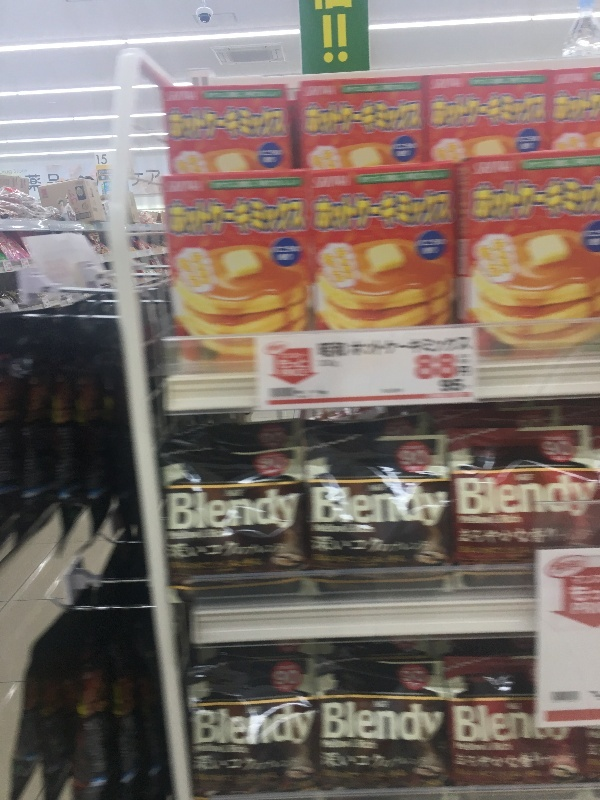text: (322, 14, 336, 64), (481, 176, 496, 222), (497, 176, 512, 222), (513, 176, 528, 222), (529, 176, 544, 222), (545, 176, 560, 222), (561, 176, 576, 222), (577, 176, 592, 222), (321, 189, 336, 232), (337, 189, 352, 232), (353, 189, 368, 232), (369, 189, 384, 232), (385, 189, 400, 232), (401, 189, 416, 232), (417, 189, 432, 232), (433, 189, 448, 232), (465, 475, 480, 518), (481, 475, 496, 518), (497, 475, 512, 518), (513, 475, 528, 518), (529, 475, 544, 518), (545, 475, 560, 518), (561, 475, 576, 518), (577, 475, 592, 518), (177, 489, 192, 531), (193, 489, 208, 531), (209, 489, 224, 531), (225, 489, 240, 531), (241, 489, 256, 531), (257, 489, 272, 531), (273, 489, 288, 531), (321, 703, 336, 744), (337, 703, 352, 744), (353, 703, 368, 744), (369, 703, 384, 744), (385, 703, 400, 744), (401, 703, 416, 744), (417, 703, 432, 744), (433, 703, 448, 744), (577, 575, 592, 616), (209, 706, 224, 746), (225, 706, 240, 746), (241, 706, 256, 746), (257, 706, 272, 746), (273, 706, 288, 746), (289, 706, 304, 746), (321, 487, 336, 526), (337, 487, 352, 526), (353, 487, 368, 526), (369, 487, 384, 526), (385, 487, 400, 526), (401, 487, 416, 526), (417, 487, 432, 526), (433, 487, 448, 526), (177, 198, 192, 236), (193, 198, 208, 236), (209, 198, 224, 236), (225, 198, 240, 236), (241, 198, 256, 236), (257, 198, 272, 236), (273, 198, 288, 236), (289, 198, 304, 236), (305, 99, 320, 137), (321, 99, 336, 137), (337, 99, 352, 137), (353, 99, 368, 137), (369, 99, 384, 137), (385, 99, 400, 137), (401, 99, 416, 137), (194, 706, 208, 746), (305, 706, 319, 746), (337, 14, 348, 64), (433, 92, 448, 128), (449, 92, 464, 128), (465, 92, 480, 128), (481, 92, 496, 128), (497, 92, 512, 128), (513, 92, 528, 128), (529, 92, 544, 128), (465, 705, 480, 741), (481, 705, 496, 741), (497, 705, 512, 741), (513, 705, 528, 741), (177, 107, 192, 142), (193, 107, 208, 142), (209, 107, 224, 142), (225, 107, 240, 142), (241, 107, 256, 142), (257, 107, 272, 142), (561, 90, 576, 124), (577, 90, 592, 124), (289, 489, 301, 531), (273, 107, 287, 142), (451, 705, 464, 741), (417, 352, 432, 381), (433, 352, 448, 381), (449, 352, 464, 381), (454, 475, 464, 518), (310, 487, 320, 526), (321, 337, 336, 360), (337, 337, 352, 360), (353, 337, 368, 360), (369, 337, 384, 360), (385, 337, 400, 360), (401, 337, 416, 360), (417, 337, 432, 360), (433, 337, 448, 360), (449, 337, 464, 360), (167, 198, 176, 236), (168, 489, 176, 531), (289, 354, 304, 376), (473, 176, 480, 222), (593, 176, 600, 222), (167, 107, 176, 142), (569, 575, 576, 616), (593, 575, 600, 616), (33, 174, 48, 193), (273, 755, 289, 772), (177, 542, 192, 560), (193, 542, 208, 560), (209, 542, 224, 560), (225, 542, 240, 560), (241, 542, 256, 560), (257, 542, 272, 560), (273, 542, 288, 560), (321, 750, 336, 768), (337, 750, 352, 768), (353, 750, 368, 768), (369, 750, 384, 768), (385, 750, 400, 768), (401, 750, 416, 768), (314, 189, 320, 232), (593, 475, 599, 518), (193, 755, 208, 772), (209, 755, 224, 772), (225, 755, 240, 772), (241, 755, 256, 772), (257, 755, 272, 772), (529, 705, 536, 741), (145, 170, 160, 186), (369, 169, 384, 185), (385, 169, 400, 185), (401, 169, 416, 185), (417, 169, 432, 185), (433, 169, 448, 185), (529, 155, 544, 171), (545, 155, 560, 171), (561, 155, 576, 171), (577, 155, 592, 171), (321, 535, 336, 551), (337, 535, 352, 551), (353, 535, 368, 551), (369, 535, 384, 551), (385, 535, 400, 551), (401, 535, 416, 551), (465, 753, 480, 769), (481, 753, 496, 769), (497, 753, 512, 769), (513, 753, 528, 769), (529, 753, 544, 769), (553, 90, 560, 124), (593, 90, 600, 124), (465, 352, 473, 381), (417, 99, 423, 137), (481, 161, 496, 176), (497, 161, 512, 176), (465, 529, 480, 544), (481, 529, 496, 544), (497, 529, 512, 544), (513, 529, 528, 544), (529, 529, 544, 544), (545, 529, 560, 544), (417, 535, 431, 551), (278, 354, 288, 376), (49, 174, 60, 193), (465, 337, 474, 360), (225, 178, 240, 191), (241, 178, 256, 191), (257, 178, 272, 191), (273, 178, 288, 191), (321, 176, 336, 189), (449, 379, 464, 392), (132, 170, 144, 186), (356, 169, 368, 185), (210, 178, 224, 191), (337, 176, 351, 189), (177, 181, 192, 193), (305, 86, 320, 98), (321, 86, 336, 98), (433, 78, 448, 90), (449, 78, 464, 90), (561, 73, 576, 85), (353, 83, 368, 94), (369, 83, 384, 94), (385, 83, 400, 94), (401, 83, 416, 94), (167, 542, 176, 560), (454, 753, 464, 769), (289, 178, 301, 191), (177, 92, 192, 102), (209, 90, 224, 100), (225, 90, 240, 100), (241, 90, 256, 100), (257, 90, 272, 100), (481, 76, 496, 86), (497, 76, 512, 86), (513, 76, 528, 86), (529, 76, 544, 86), (177, 530, 192, 540), (193, 530, 208, 540), (209, 530, 224, 540), (545, 753, 554, 769), (75, 187, 80, 215), (321, 741, 336, 750), (337, 741, 352, 750), (353, 741, 368, 750), (193, 181, 204, 193), (577, 73, 588, 85), (438, 379, 448, 392), (449, 189, 452, 232), (312, 535, 320, 551), (497, 743, 513, 751), (166, 181, 176, 193), (321, 524, 336, 532), (337, 524, 352, 532), (353, 524, 368, 532), (465, 516, 480, 524), (481, 516, 496, 524), (497, 516, 512, 524), (465, 743, 480, 751), (481, 743, 496, 751), (26, 174, 32, 193), (521, 155, 528, 171), (593, 155, 600, 171), (97, 155, 108, 165), (342, 83, 352, 94), (305, 354, 310, 376), (417, 750, 423, 768), (401, 143, 416, 150), (417, 240, 432, 247), (473, 161, 480, 176), (209, 746, 224, 753), (225, 746, 240, 753), (312, 176, 320, 189), (470, 76, 480, 86), (433, 240, 447, 247), (194, 746, 208, 753), (167, 92, 176, 102), (458, 529, 464, 544), (513, 516, 524, 524), (274, 247, 288, 253), (369, 741, 378, 750), (168, 530, 176, 540), (454, 743, 464, 751), (277, 254, 288, 261), (1, 170, 16, 175), (260, 150, 272, 156), (289, 247, 301, 253), (430, 92, 432, 128), (545, 92, 547, 128), (516, 137, 528, 143), (554, 73, 560, 85), (311, 524, 320, 532), (273, 90, 280, 100), (317, 337, 320, 360), (529, 137, 540, 143), (423, 247, 432, 254), (241, 746, 250, 753), (273, 150, 283, 156), (262, 157, 272, 163), (193, 92, 199, 102), (513, 161, 517, 176), (561, 529, 565, 544), (414, 352, 416, 381), (593, 73, 600, 81), (99, 170, 112, 174), (17, 169, 27, 174), (393, 143, 400, 150), (521, 143, 528, 150), (593, 230, 600, 237), (593, 239, 600, 246), (401, 151, 409, 157), (369, 524, 375, 532), (433, 247, 439, 254), (529, 143, 535, 150), (102, 176, 112, 180), (459, 516, 464, 524), (449, 487, 450, 526), (305, 198, 306, 236), (289, 254, 294, 261), (587, 230, 592, 237), (205, 90, 208, 100), (225, 530, 228, 540), (273, 157, 277, 163), (417, 83, 419, 94), (589, 239, 592, 246), (397, 151, 400, 157), (449, 169, 450, 185), (465, 379, 466, 392), (431, 78, 432, 90), (14, 169, 16, 174)
